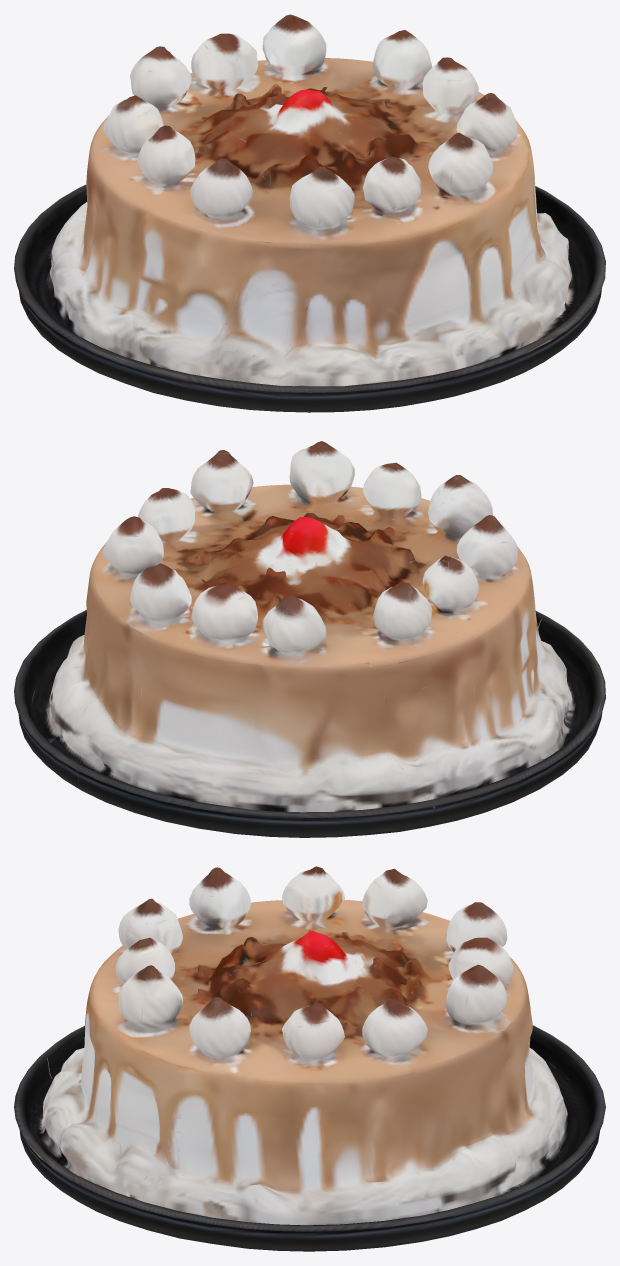
File: lod_basic_shaded.fbx
3 renders of one model, top to bottom at view 1: azimuth 30°, elevation 25°; view 2: azimuth 150°, elevation 25°; view 3: azimuth 270°, elevation 25°, orthographic.
Parts seen in each view (by area): view 1: model_LOD0; view 2: model_LOD0; view 3: model_LOD0.
Boxes of the visible parts, x1,y1,x2,y2 form: model_LOD0: (14, 14, 605, 412); model_LOD0: (14, 441, 605, 837); model_LOD0: (14, 866, 605, 1251).
Size of what is drawn, in the model's own units: 178 by 93.58 by 179.
